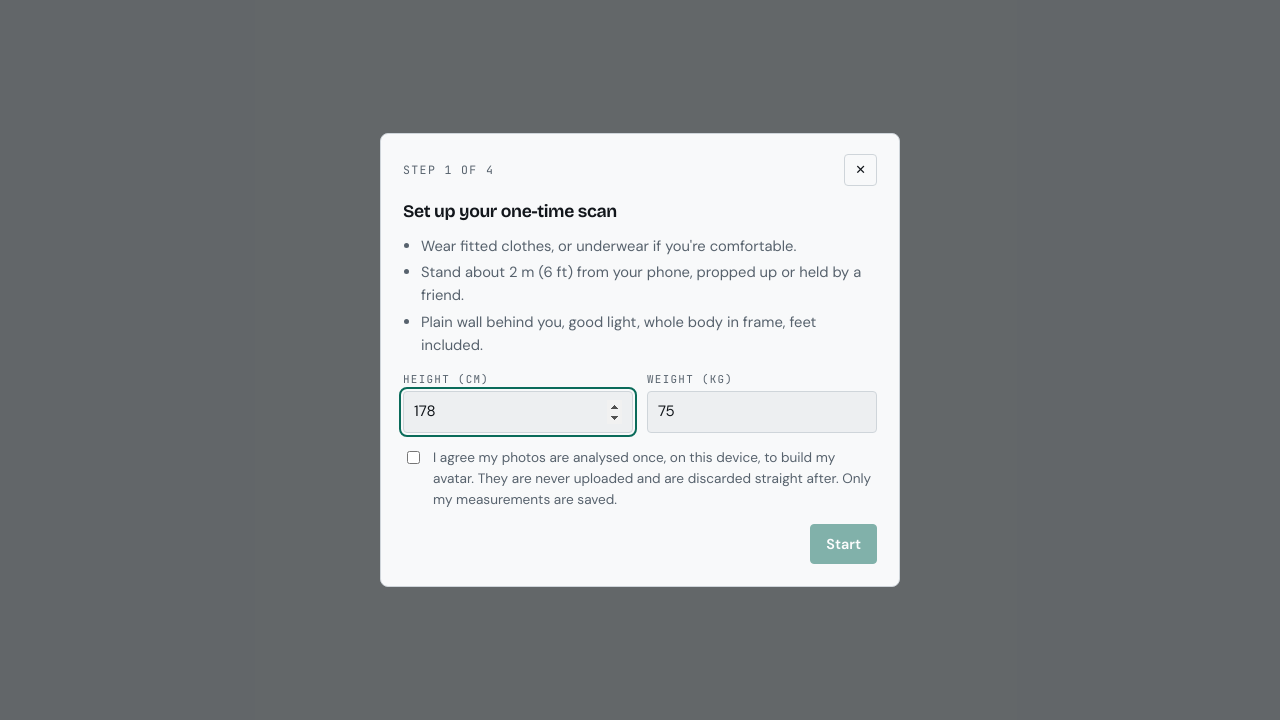
ScanModal setup step › blocks a height of "" even with consent
This screenshot has width=1280, height=720.
Click the checkbox at (414, 457), box x1=407 y1=451 x2=420 y2=464
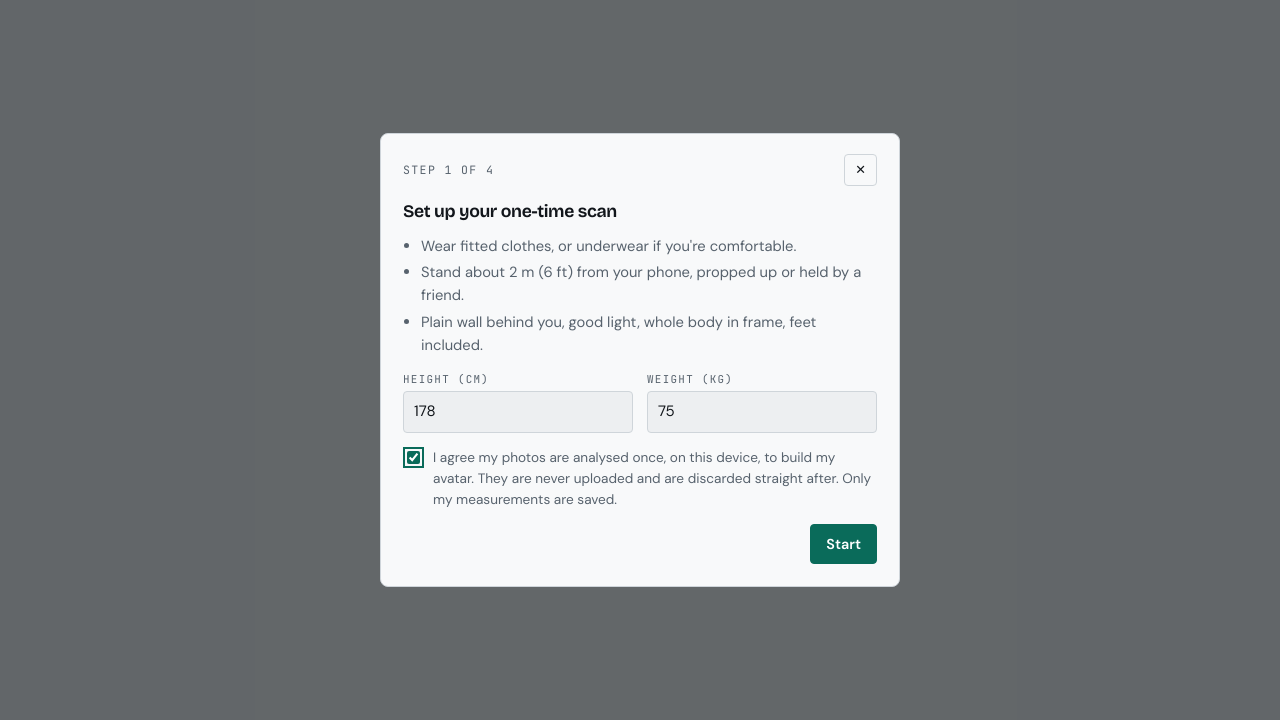
Clear the number field labelled "Height (cm)" at (518, 412), box x1=403 y1=392 x2=633 y2=433
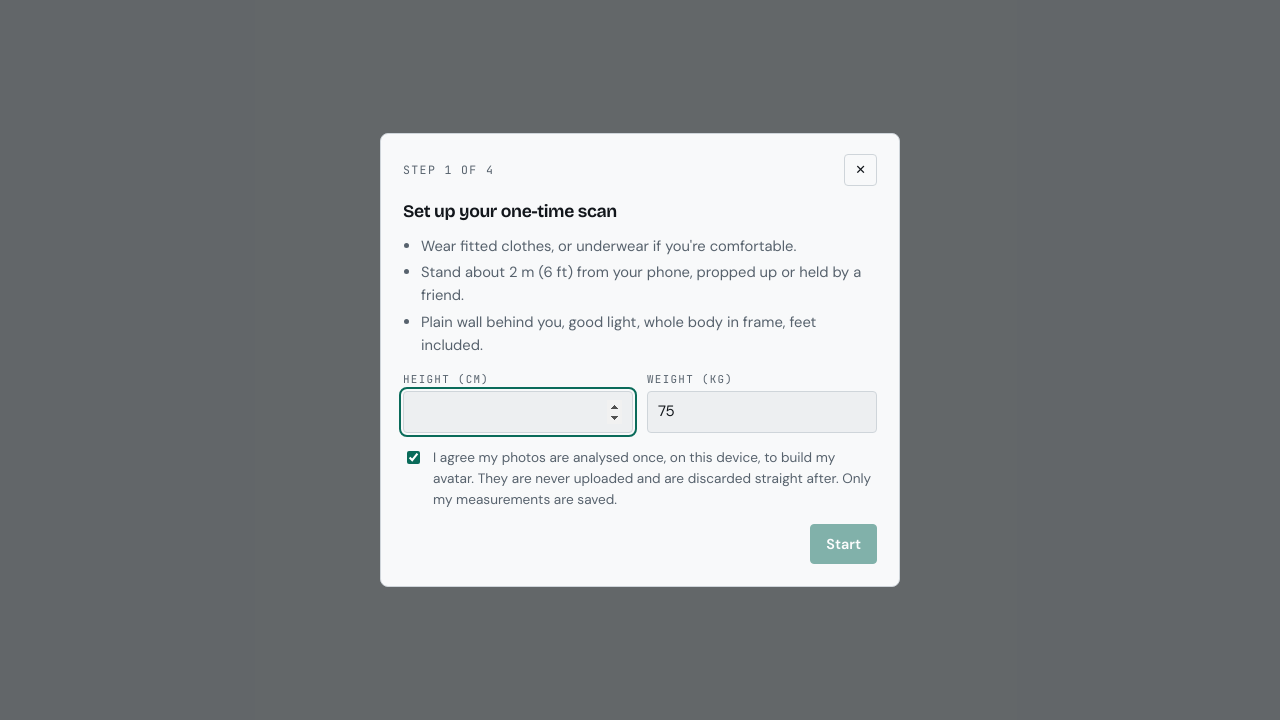
Expected: the button "Start" is disabled, x1=810 y1=524 x2=877 y2=564
